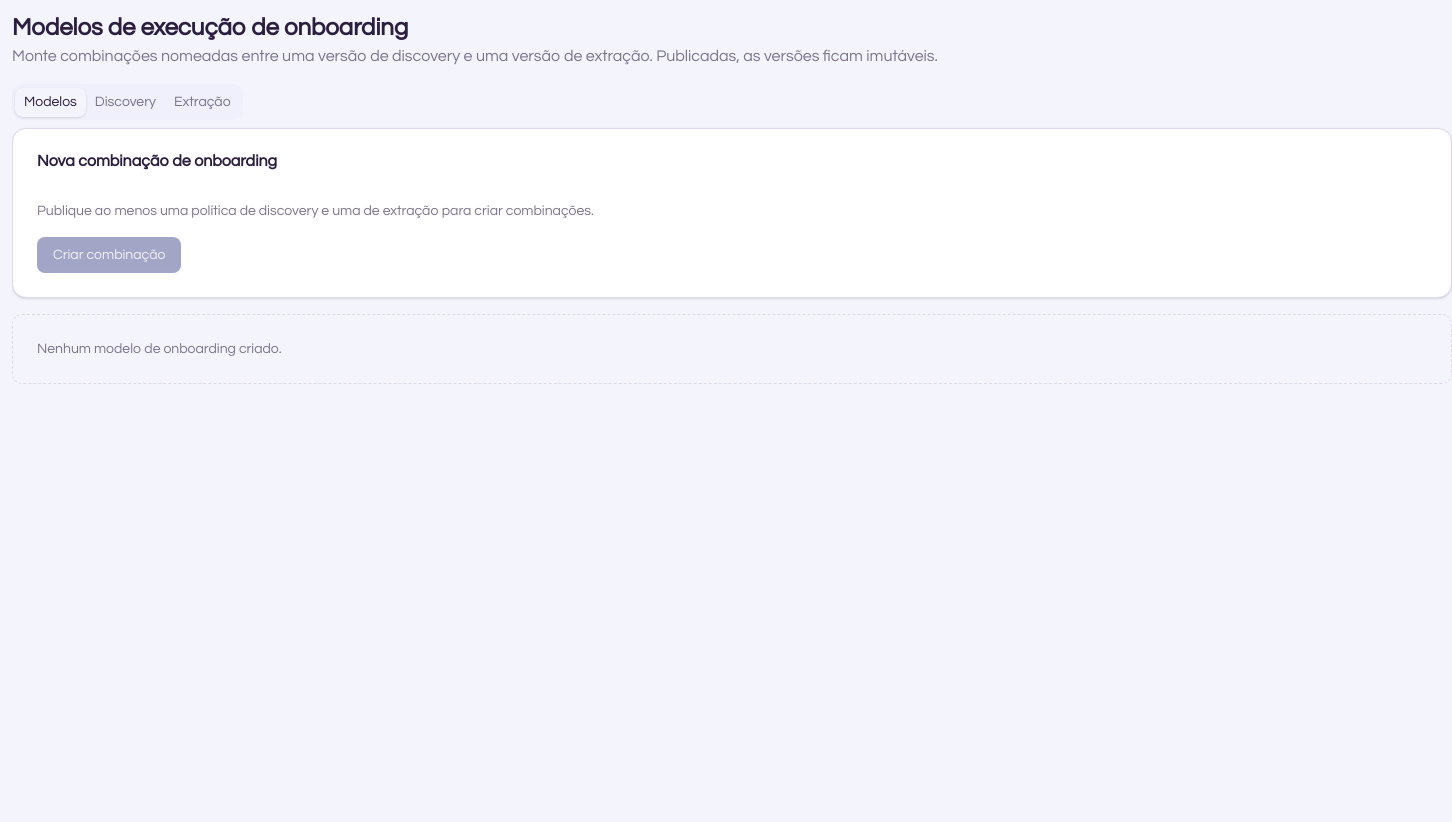
Scenario: OnboardingCatalogsClient › shows explicit empty states and requires published policies before a model
Expected: the text "Publique ao menos uma política de discovery" is shown, [37,204,594,218]
Expected: the text "Nenhum modelo de onboarding criado." is shown, [12,314,1451,384]
Press the mouse on the tab "Discovery" at coordinates (125, 102), box [86,88,165,116]
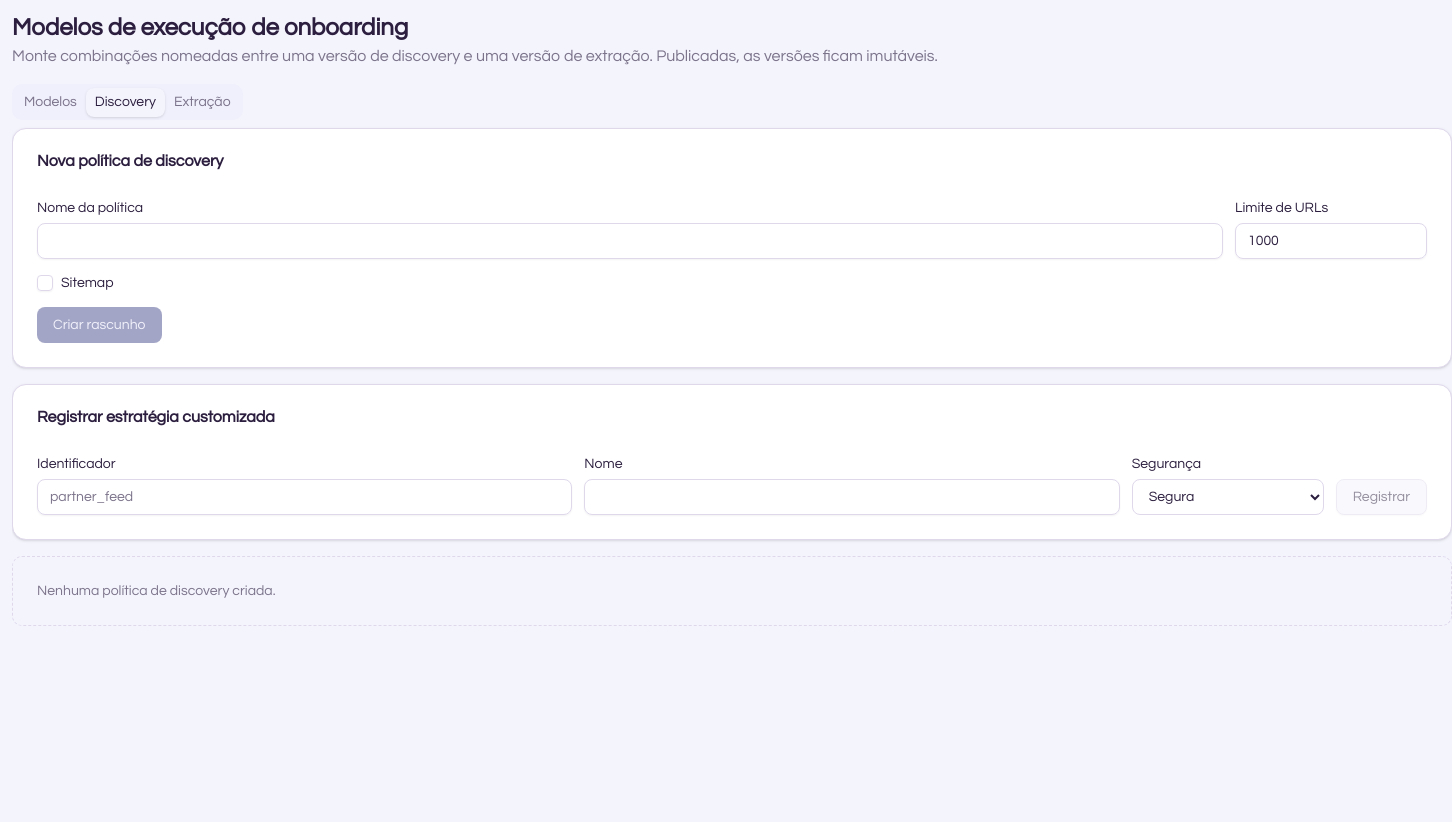
Now the checkbox named "Sitemap" is shown, box [37,275,53,291]
Now the text "Nenhuma política de discovery criada." is shown, box [12,556,1451,626]
Press the mouse on the tab "Extração" at coordinates (202, 102), box [165,88,240,116]
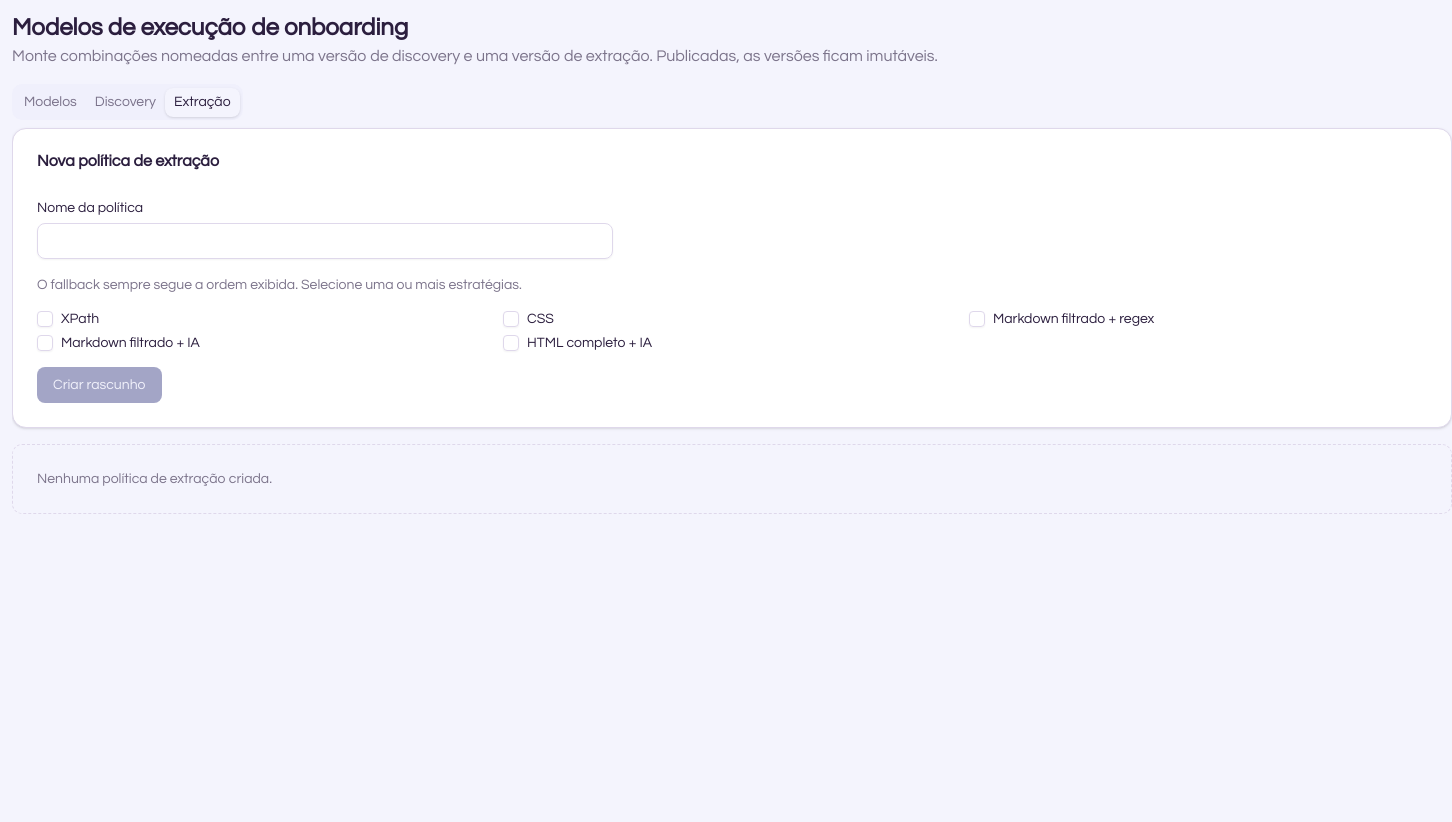
Now the checkbox named "XPath" next to "XPath" is shown, box [37,311,53,327]
Now the text "Nenhuma política de extração criada." is shown, box [12,444,1451,514]
